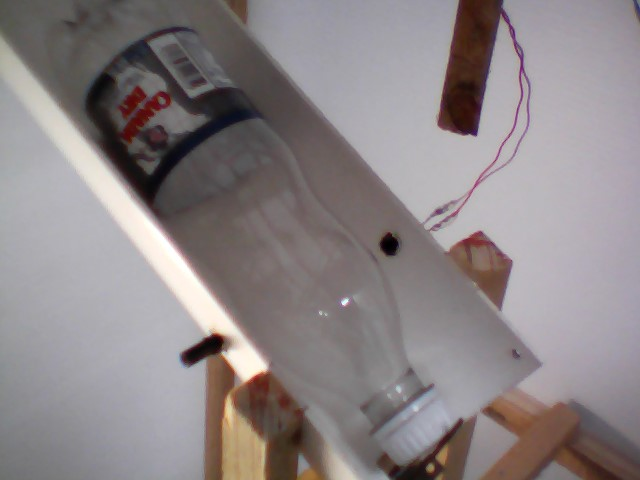plastico: (42, 1, 464, 467)
